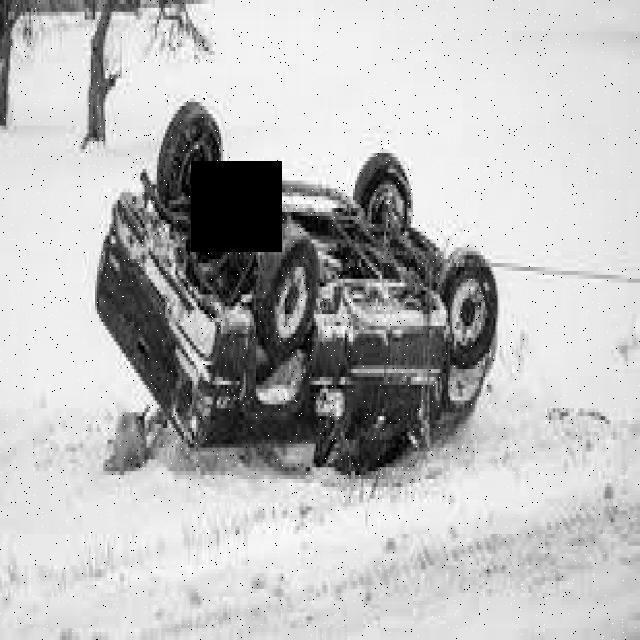accident: (90, 79, 501, 472)
